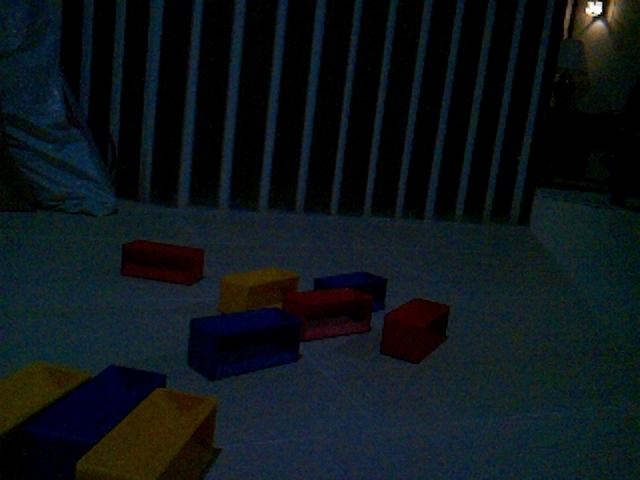blue: (12, 361, 169, 478), (186, 305, 303, 382), (313, 269, 389, 313)
red: (283, 286, 374, 342), (379, 296, 452, 365), (119, 237, 207, 287)
yellow: (75, 386, 221, 479), (1, 359, 93, 436), (217, 265, 301, 315)
